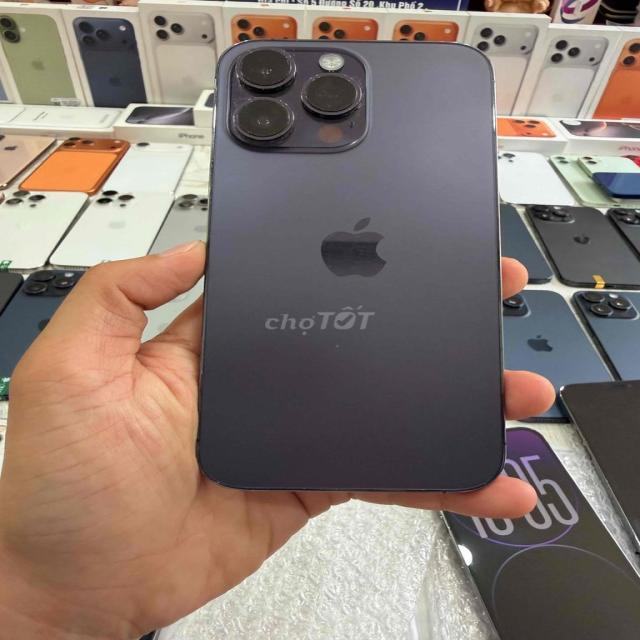gen_14: (196, 27, 514, 508)
